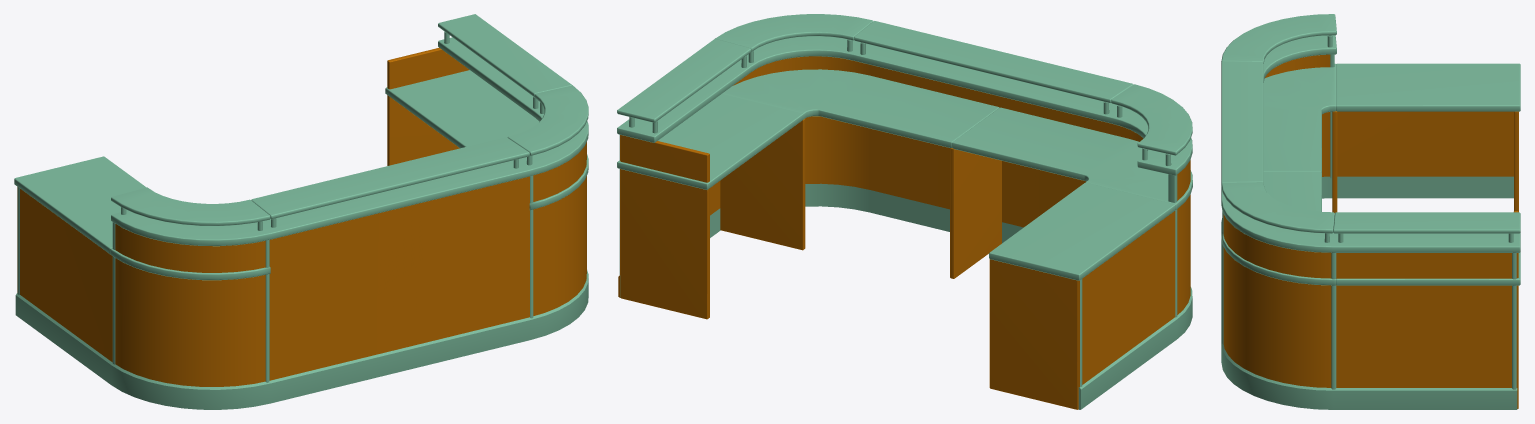
File: SM_ReceptionDesk_02a.FBX
3 views of the same model, side by side, from view 1: azimuth 30°, elevation 25°; view 2: azimuth 150°, elevation 25°; view 3: azimuth 270°, elevation 25° (orthographic). The views are drawn at different scales.
Parts seen in each view (by area): view 1: SM_ReceptionDesk_02a_LOD0; view 2: SM_ReceptionDesk_02a_LOD0; view 3: SM_ReceptionDesk_02a_LOD0.
Part boxes in pixels (left/top/right/bottom): SM_ReceptionDesk_02a_LOD0: left=14, top=14, right=588, bottom=409; SM_ReceptionDesk_02a_LOD0: left=617, top=14, right=1192, bottom=409; SM_ReceptionDesk_02a_LOD0: left=1221, top=14, right=1520, bottom=409.
Size of what is drawn, in the model's own units: 348 by 136 by 204.
